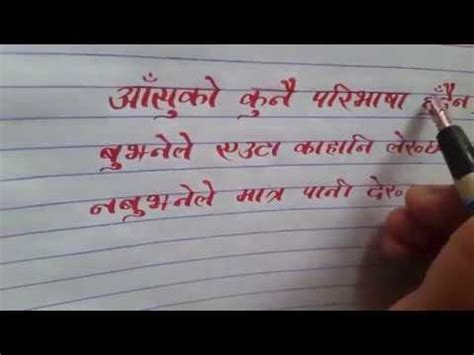text: (90, 179, 216, 223), (107, 71, 222, 119), (98, 133, 193, 170), (312, 81, 411, 113), (236, 78, 298, 120), (292, 132, 376, 156), (215, 138, 284, 160), (300, 178, 355, 203), (384, 131, 436, 157), (233, 184, 285, 206), (443, 79, 472, 112)
